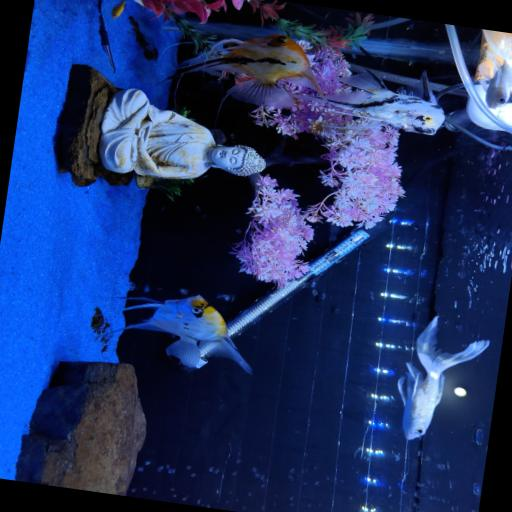Fish: (397, 316, 488, 438), (110, 294, 250, 372), (176, 34, 323, 108), (325, 71, 444, 133), (479, 29, 511, 107), (109, 0, 125, 20)
